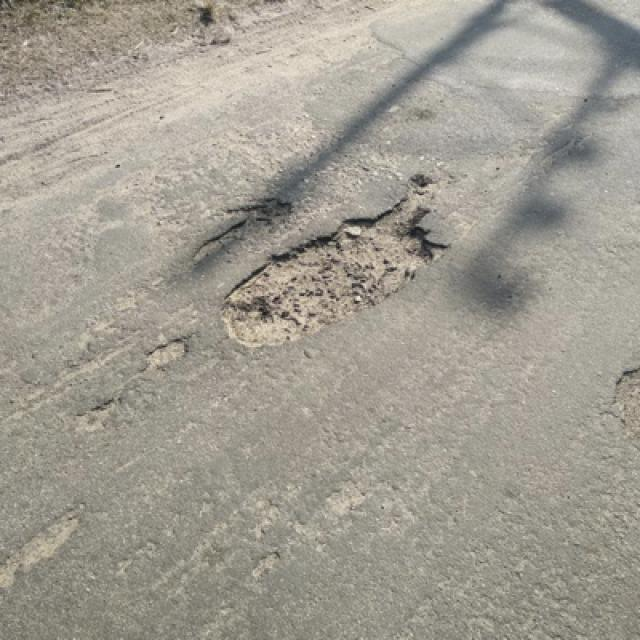Pothole: (224, 171, 453, 354), (0, 501, 91, 589), (190, 195, 296, 269), (139, 334, 197, 373), (613, 366, 640, 445)
